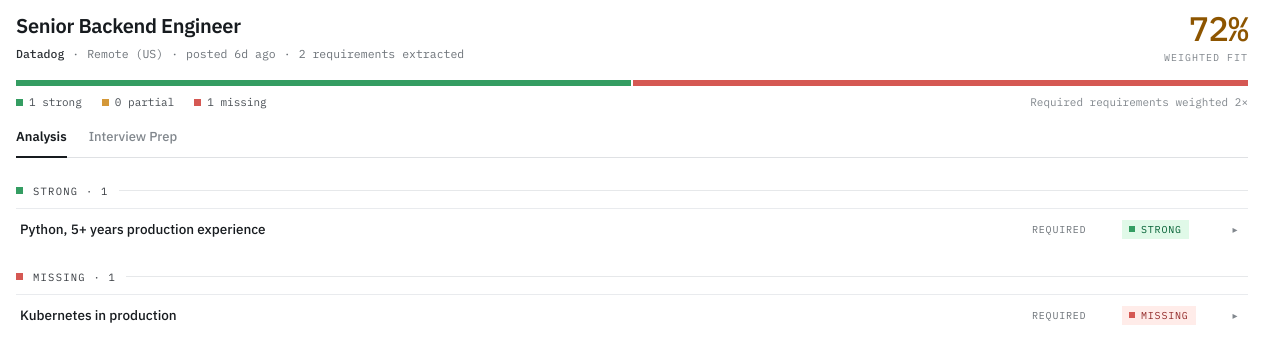
Test case: AnalysisPane › prefers the failure state over the generating state when a retry is in flight
Click the tab "Interview Prep": (133, 142) [89,127,177,158]
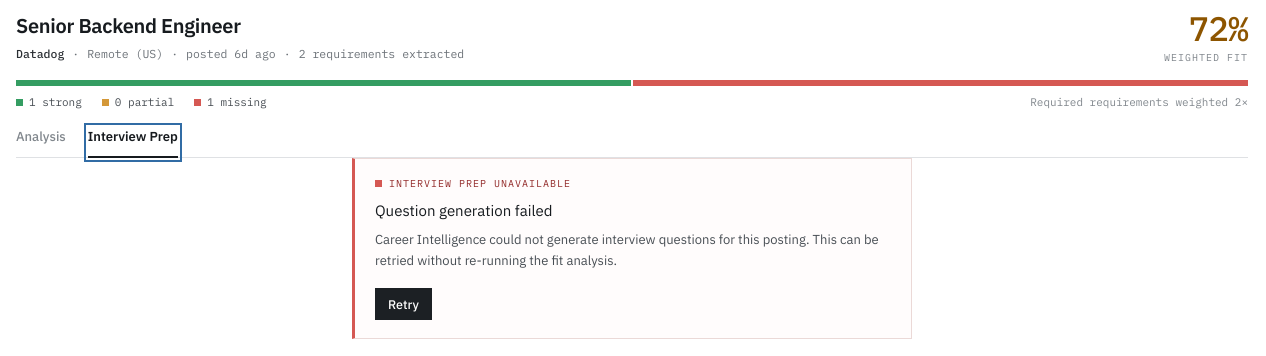
Now the heading "Question generation failed" is shown, box [375,200,552,220]
